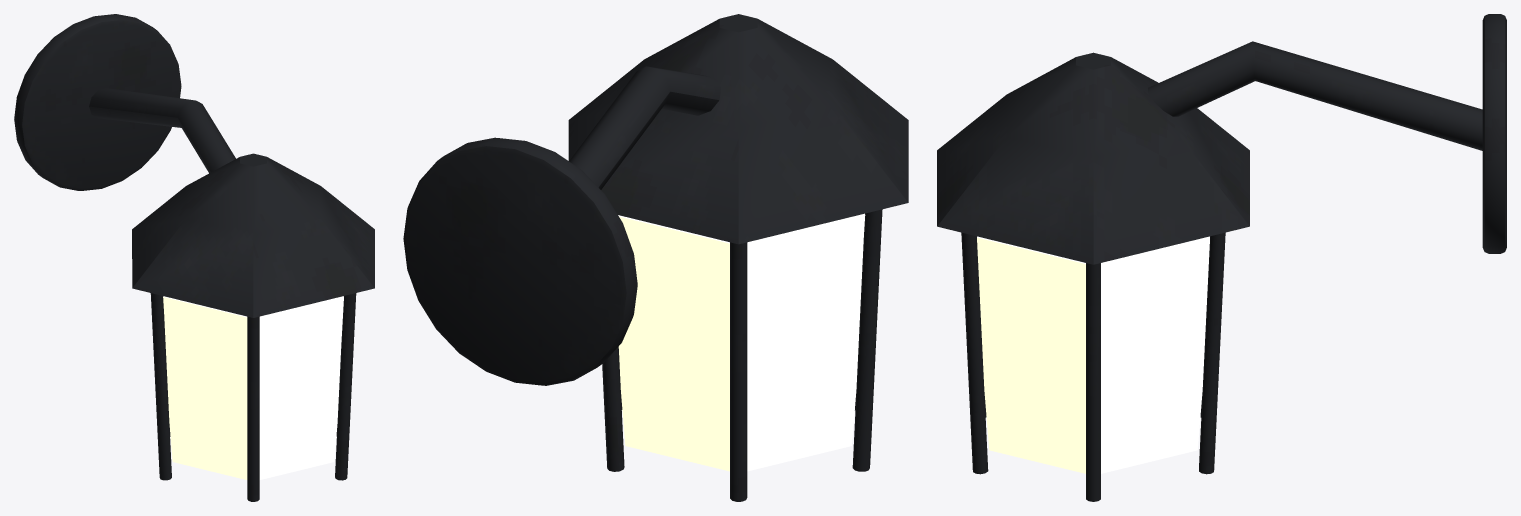
File: arandela-ferro-medio.glb
The picture shows the model from 3 angles, left to right: view 1: azimuth 30°, elevation 25°; view 2: azimuth 150°, elevation 25°; view 3: azimuth 270°, elevation 25°; orthographic projection. The views are drawn at different scales.
Size of the model in its own units: 0.18 by 0.24 by 0.2839.
Materials: 2 (1 with a texture image).
